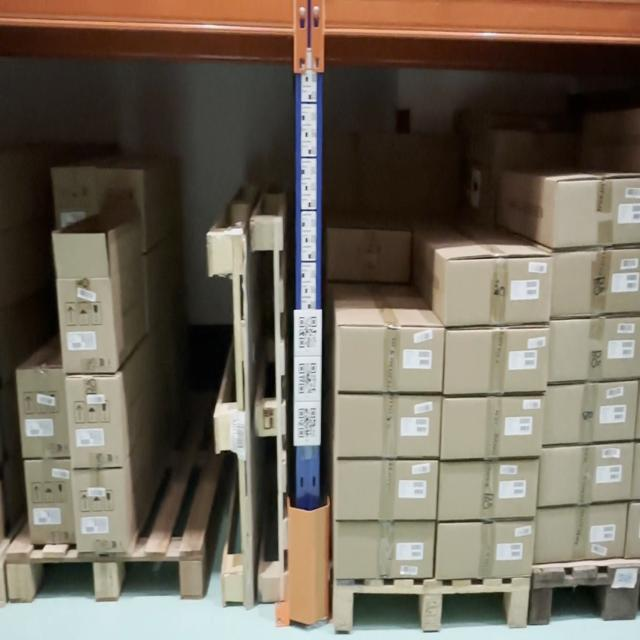box: (339, 326, 441, 390), (338, 396, 439, 456), (443, 397, 542, 458), (448, 262, 549, 321), (336, 463, 438, 520), (447, 332, 545, 391), (544, 382, 635, 443), (336, 521, 433, 578), (438, 522, 532, 580), (440, 463, 536, 515), (551, 321, 640, 377), (553, 253, 640, 310), (15, 369, 70, 459), (558, 183, 640, 242), (64, 278, 114, 370), (72, 467, 126, 552), (543, 448, 629, 501), (25, 460, 76, 546), (73, 377, 119, 469), (538, 511, 623, 555), (329, 232, 409, 276)
